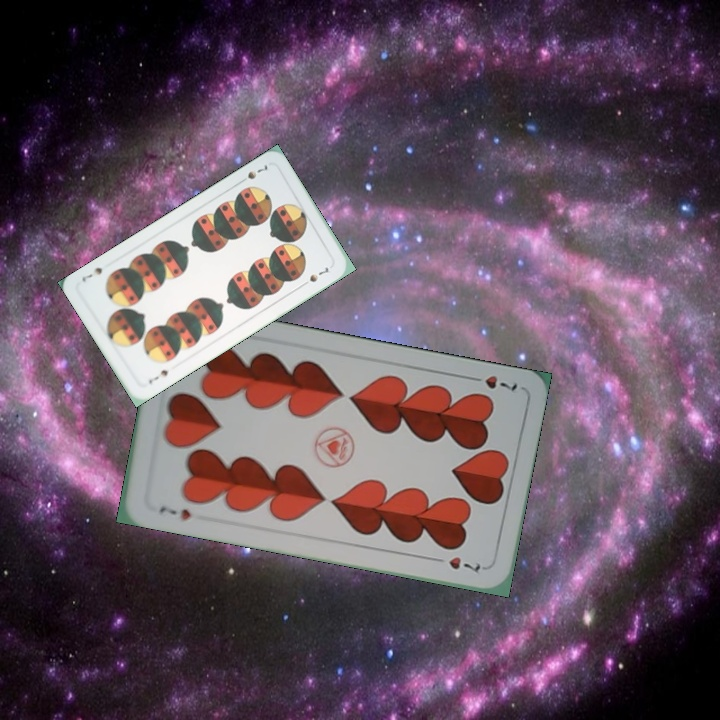H7: (464, 371, 520, 394), (155, 501, 194, 523)
S7: (235, 160, 272, 186), (144, 365, 172, 387)
